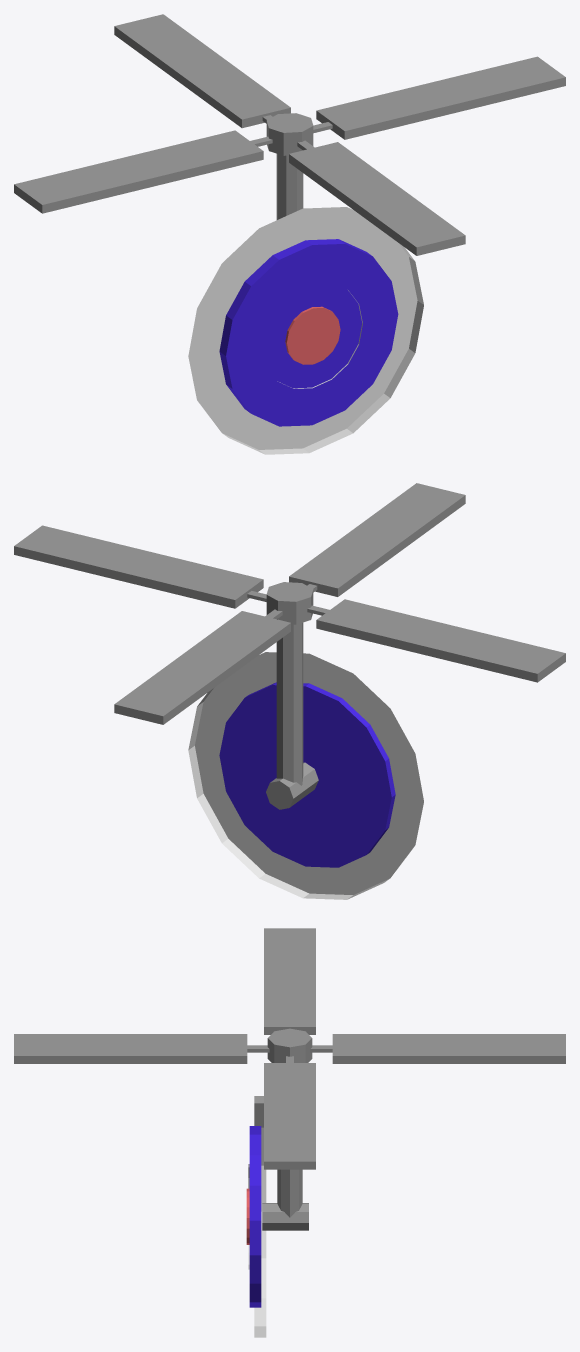
Rendered from target.glb.
3 views of the same model, one above another, from view 1: azimuth 30°, elevation 25°; view 2: azimuth 150°, elevation 25°; view 3: azimuth 270°, elevation 25° (orthographic). The views are drawn at different scales.
Parts seen in each view (by area): view 1: Prop, Target_3, Target_4, Target_1, Pole; view 2: Prop, Target_3, Target_4, Pole; view 3: Prop, Target_3, Pole, Target_4.
Part boxes in pixels (bbox=[...]): Prop: bbox=[14, 14, 565, 255]; Target_3: bbox=[219, 239, 398, 426]; Target_4: bbox=[188, 207, 423, 454]; Target_1: bbox=[285, 306, 340, 364]; Pole: bbox=[276, 154, 303, 219]; Prop: bbox=[14, 483, 565, 724]; Target_3: bbox=[219, 682, 395, 867]; Target_4: bbox=[188, 652, 423, 899]; Pole: bbox=[266, 622, 318, 809]; Prop: bbox=[14, 928, 565, 1169]; Target_3: bbox=[249, 1126, 261, 1307]; Pole: bbox=[262, 1169, 308, 1230]; Target_4: bbox=[254, 1096, 266, 1337].
Bounding box in the file's own units: 0.7579 × 0.4369 × 0.7579.
